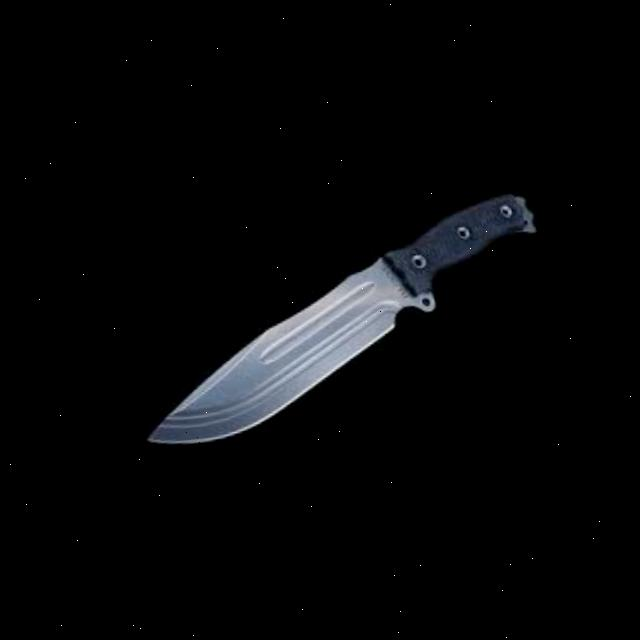knife: (104, 190, 562, 448)
